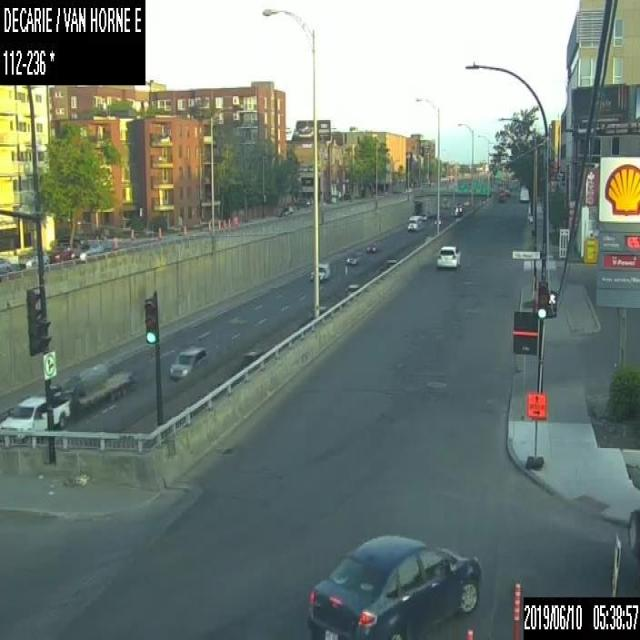construction: (524, 390, 546, 470), (510, 580, 522, 639), (464, 626, 474, 638)
vehicle: (306, 530, 481, 638), (0, 360, 133, 431), (169, 344, 208, 380), (71, 239, 101, 259), (19, 248, 49, 267), (436, 245, 460, 268), (310, 262, 330, 282), (48, 244, 70, 262), (406, 214, 422, 232), (0, 254, 15, 269), (275, 204, 293, 216), (517, 186, 528, 202), (345, 252, 357, 264), (366, 242, 376, 252), (433, 217, 441, 224), (420, 212, 426, 219)
